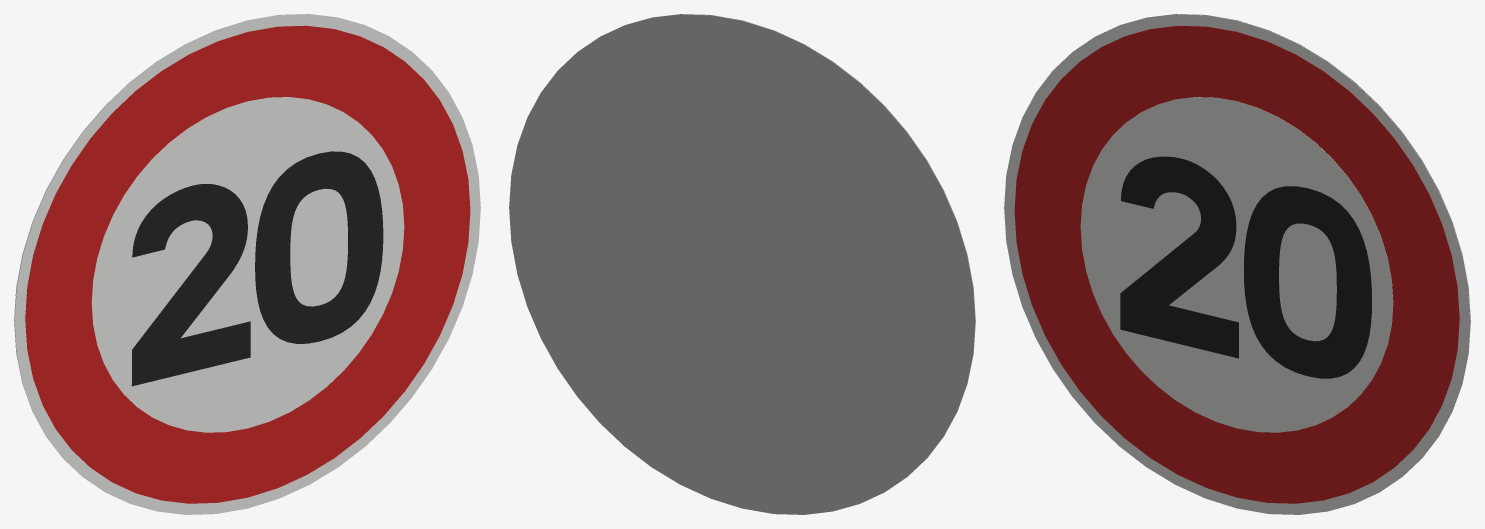
3 views of the same model, side by side, from view 1: azimuth 30°, elevation 25°; view 2: azimuth 150°, elevation 25°; view 3: azimuth 330°, elevation 25° (orthographic).
Parts seen in each view (by area): view 1: B14-20_p01, B14-20_p02, B14-20_p00, B14-20_p03, B14-20_p04, B14-20_dos; view 2: B14-20_dos, B14-20_p00; view 3: B14-20_p01, B14-20_p02, B14-20_p00, B14-20_p03, B14-20_p04, B14-20_dos.
Boxes of the visible parts, box(x1,y1,x2,y2) form: B14-20_p01: box(25, 25, 470, 503); B14-20_p02: box(91, 97, 404, 432); B14-20_p00: box(14, 14, 480, 514); B14-20_p03: box(255, 151, 383, 343); B14-20_p04: box(131, 183, 250, 386); B14-20_dos: box(14, 14, 385, 473); B14-20_dos: box(509, 14, 975, 514); B14-20_p00: box(604, 14, 975, 473); B14-20_p01: box(1014, 25, 1459, 503); B14-20_p02: box(1080, 97, 1393, 432); B14-20_p00: box(1004, 14, 1470, 514); B14-20_p03: box(1244, 186, 1371, 378); B14-20_p04: box(1120, 156, 1238, 358); B14-20_dos: box(1099, 14, 1470, 473).
Bounding box in the file's own units: 0.85 × 0.8498 × 0.0035.
